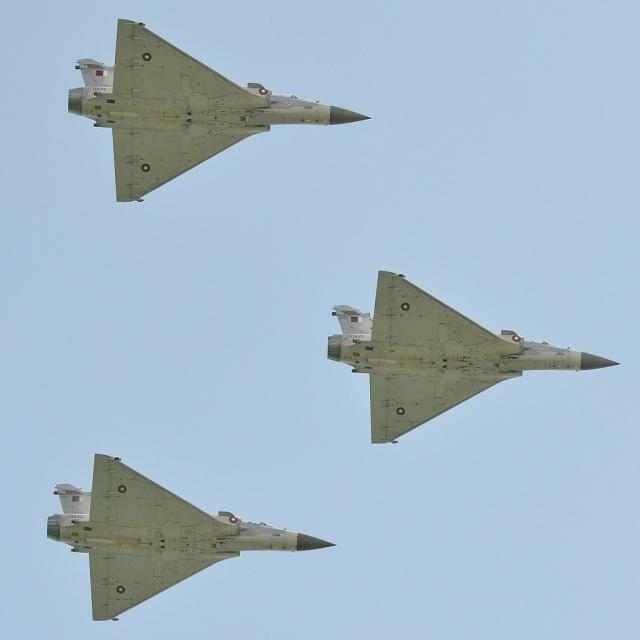MIL_Plane: (68, 18, 372, 203), (327, 270, 622, 444), (46, 453, 338, 621)
